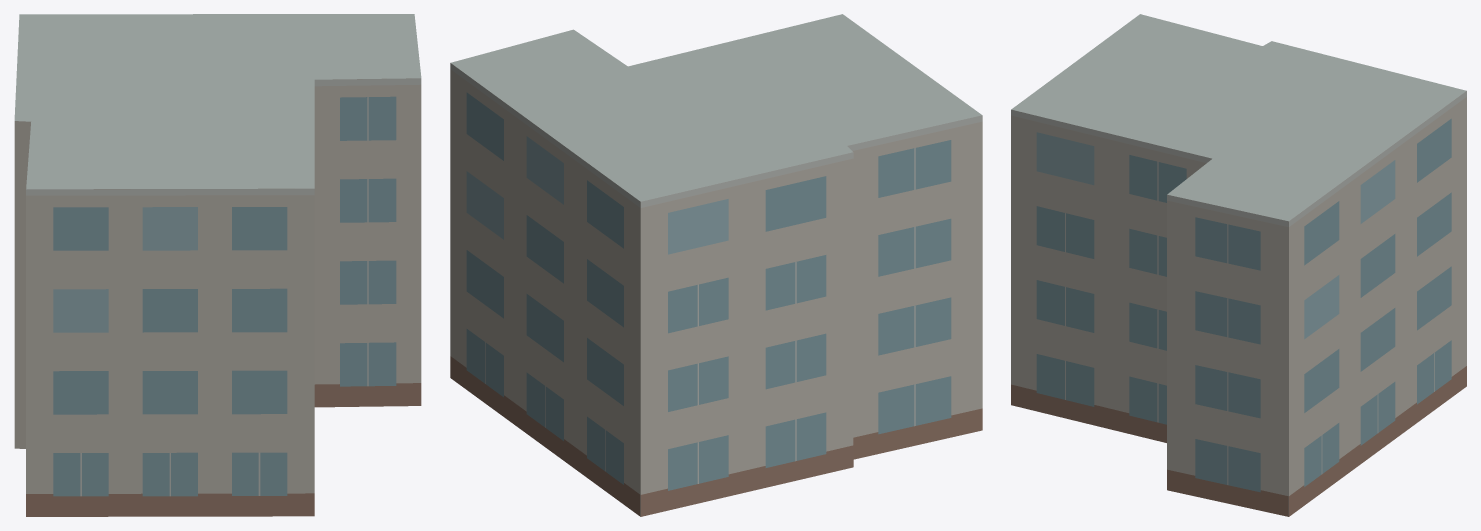
Rendered from survey-upis-32717921.glb.
3 renders of one model, left to right at view 1: azimuth 30°, elevation 25°; view 2: azimuth 150°, elevation 25°; view 3: azimuth 270°, elevation 25°, orthographic. The views are drawn at different scales.
Parts seen in each view (by area): view 1: survey-upis-32717921.tmp; view 2: survey-upis-32717921.tmp; view 3: survey-upis-32717921.tmp.
Part boxes in pixels (<box>): survey-upis-32717921.tmp: <box>14,14,421,516</box>; survey-upis-32717921.tmp: <box>450,14,982,516</box>; survey-upis-32717921.tmp: <box>1011,14,1466,516</box>.
Bounding box in the file's own units: 18.36 × 12.2 × 17.06.
